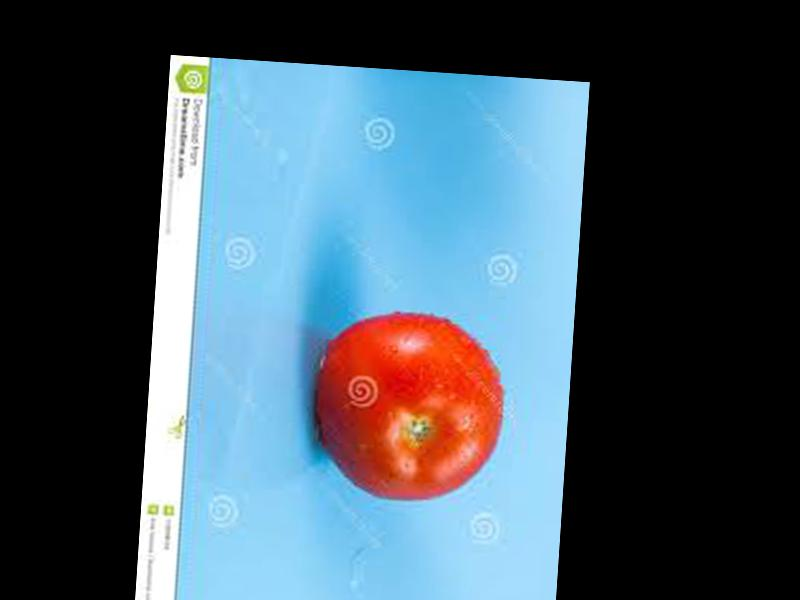Tomato: (311, 307, 508, 509)
